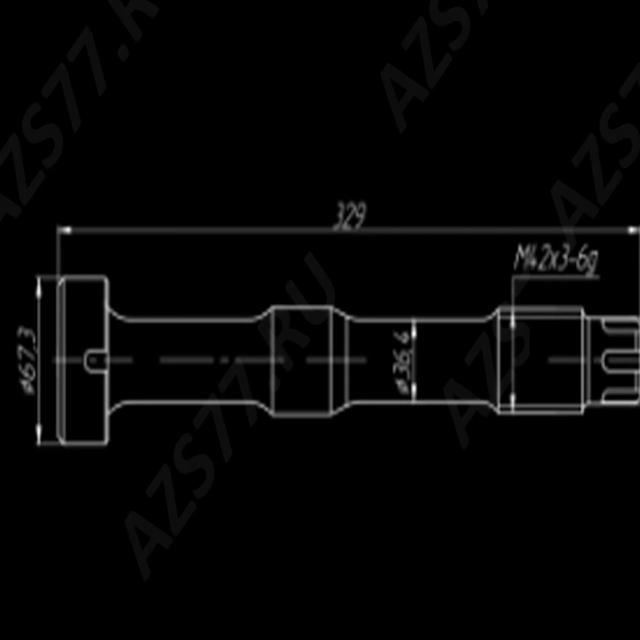marking_line: (116, 224, 640, 298), (52, 222, 640, 272), (30, 275, 58, 448), (507, 315, 520, 413), (409, 327, 419, 399)
numeric: (330, 196, 346, 232), (353, 204, 367, 230), (18, 327, 37, 346), (345, 200, 355, 231), (18, 363, 36, 379), (18, 347, 36, 362)
special_symbol: (394, 378, 411, 397), (21, 377, 36, 395), (549, 248, 558, 270)
